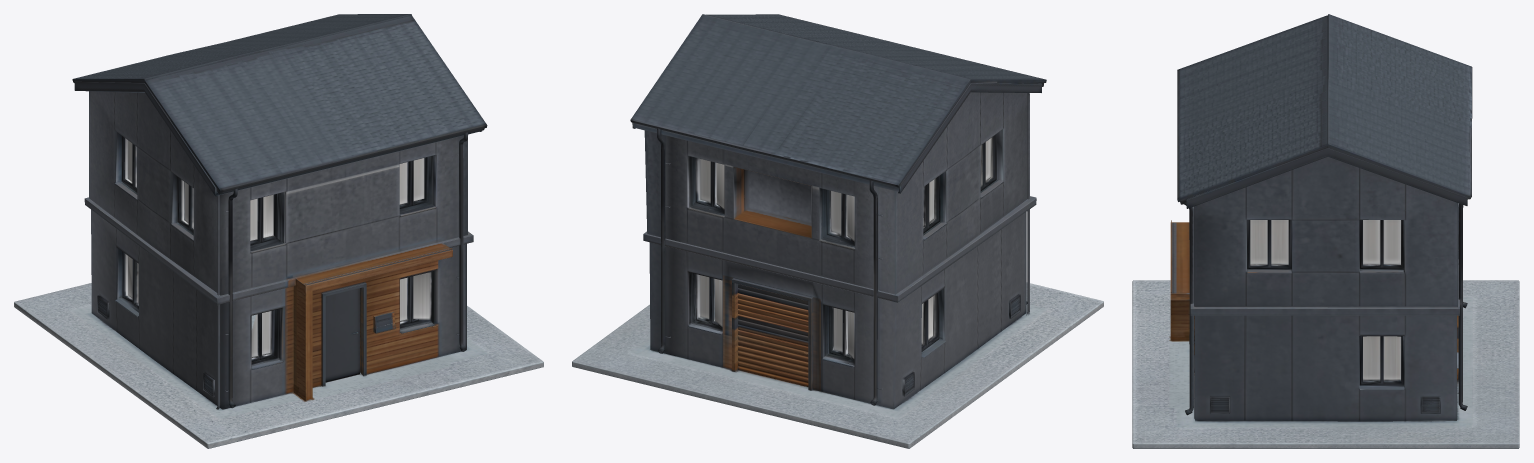
The model's file is modern+house+3d+model.fbx.
3 renders of one model, left to right at view 1: azimuth 30°, elevation 25°; view 2: azimuth 150°, elevation 25°; view 3: azimuth 270°, elevation 25°, orthographic.
Visible parts, largest first — view 1: tripo_36893c51_51bc_41a3_b8b7_eb9e78d2c5e4; view 2: tripo_36893c51_51bc_41a3_b8b7_eb9e78d2c5e4; view 3: tripo_36893c51_51bc_41a3_b8b7_eb9e78d2c5e4.
Part boxes in pixels (box(x1,y1,x2,y2)): tripo_36893c51_51bc_41a3_b8b7_eb9e78d2c5e4: box(14, 14, 543, 448); tripo_36893c51_51bc_41a3_b8b7_eb9e78d2c5e4: box(572, 14, 1103, 448); tripo_36893c51_51bc_41a3_b8b7_eb9e78d2c5e4: box(1132, 14, 1519, 448).
Size of the model in its own units: 0.9995 by 0.8228 by 0.9995.
Materials: 1 (1 with a texture image).
